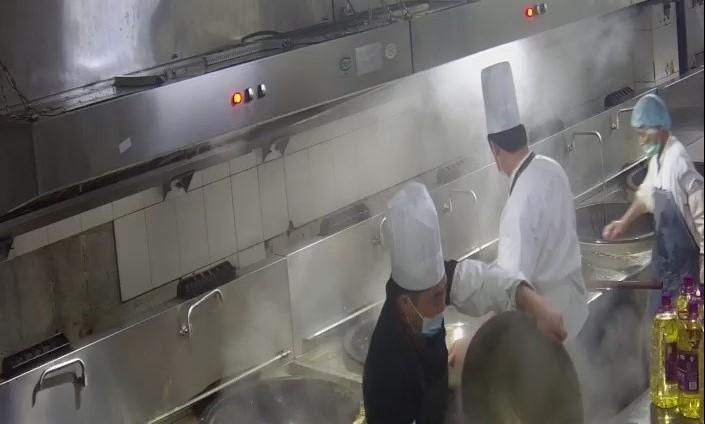mask: (635, 132, 670, 154)
